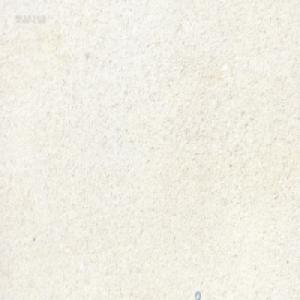Washer: (195, 289, 201, 299)
